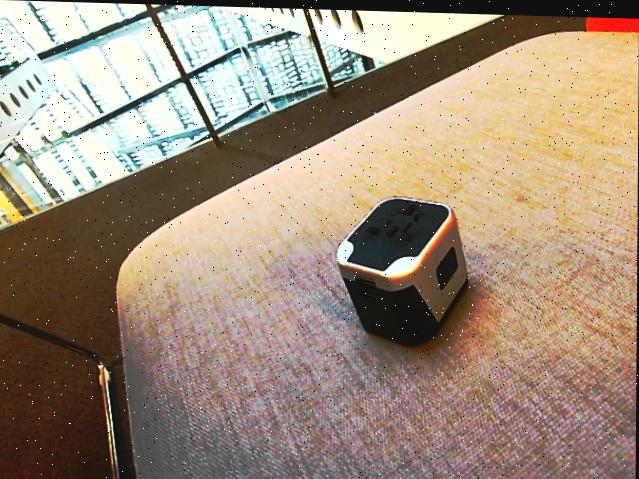adapter: (336, 190, 469, 344)
